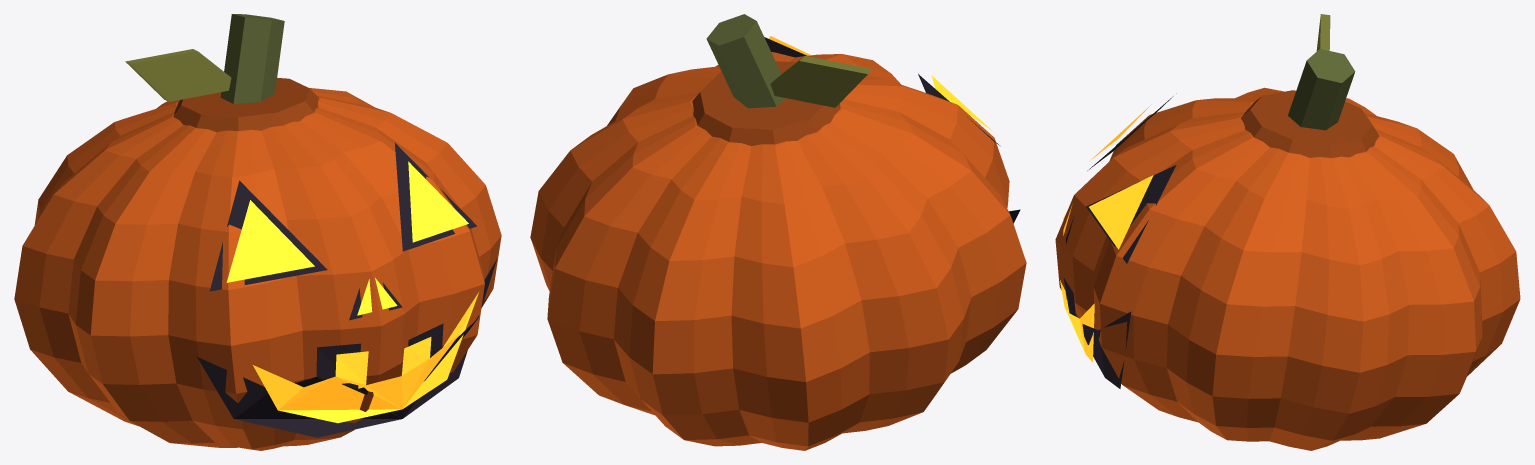
Rendered from jack-o-lantern.glb.
3 views of the same model, side by side, from view 1: azimuth 30°, elevation 25°; view 2: azimuth 150°, elevation 25°; view 3: azimuth 270°, elevation 25° (orthographic). The views are drawn at different scales.
Visible parts, largest first — view 1: Glowing jack-o-lantern; view 2: Glowing jack-o-lantern; view 3: Glowing jack-o-lantern.
Boxes of the visible parts, <box> form: Glowing jack-o-lantern: <box>14,14,501,450</box>; Glowing jack-o-lantern: <box>530,14,1026,450</box>; Glowing jack-o-lantern: <box>1055,14,1520,450</box>.
Bounding box in the file's own units: 1.41 × 1.3 × 1.47.
